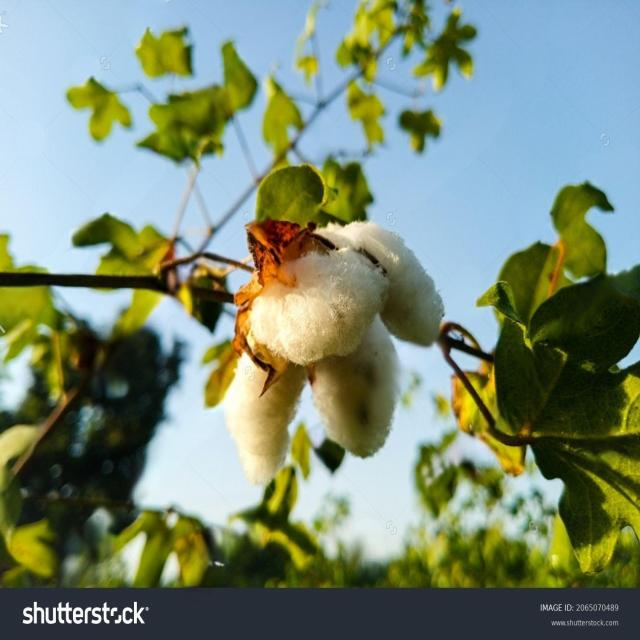Leaf: (191, 193, 466, 496)
